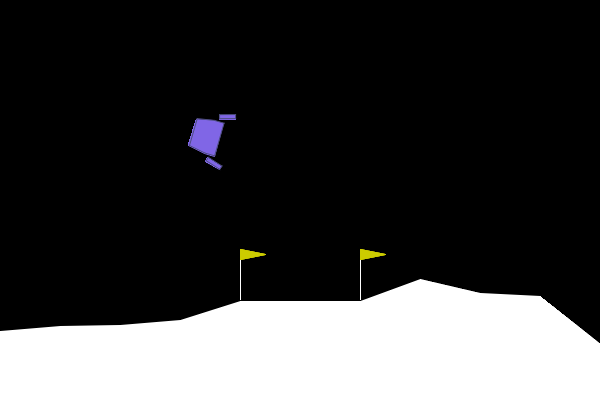lander: (182, 103, 238, 172)
